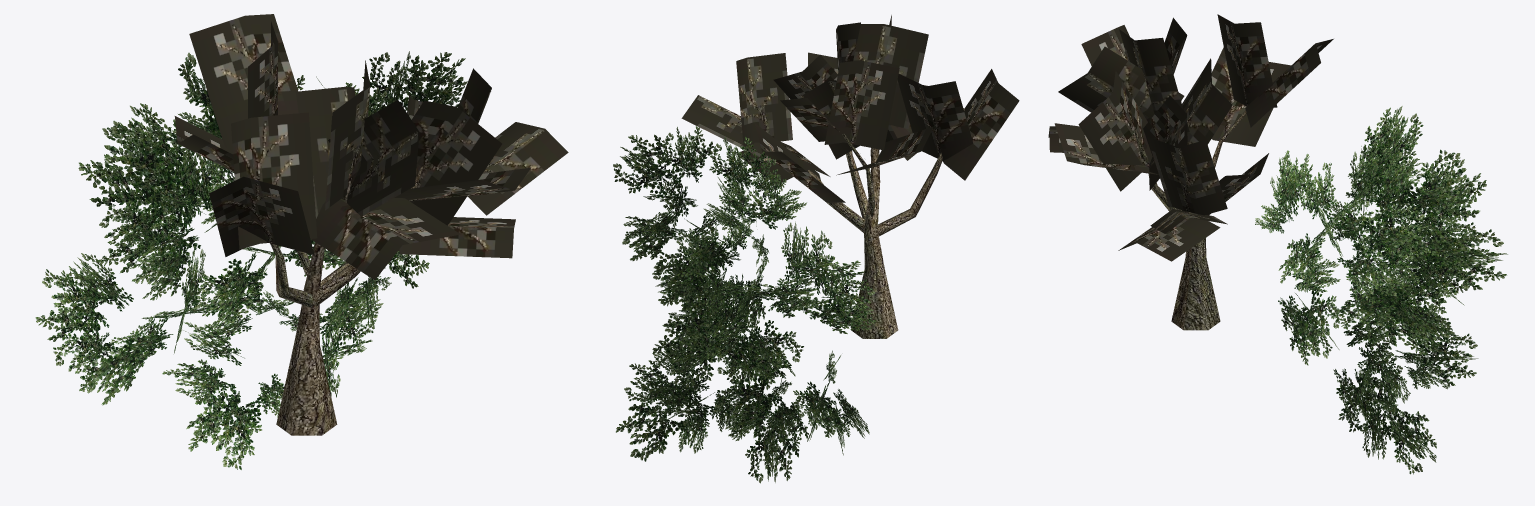
File: oak-c.glb
3 views of the same model, side by side, from view 1: azimuth 30°, elevation 25°; view 2: azimuth 150°, elevation 25°; view 3: azimuth 270°, elevation 25° (orthographic). The views are drawn at different scales.
Parts seen in each view (by area): view 1: tree_oak_new_c, tree_oak_new_top_c; view 2: tree_oak_new_top_c, tree_oak_new_c; view 3: tree_oak_new_top_c, tree_oak_new_c.
Boxes of the visible parts, box(x1,y1,x2,y2) form: tree_oak_new_c: box(174, 14, 568, 435); tree_oak_new_top_c: box(35, 51, 467, 469); tree_oak_new_top_c: box(613, 126, 876, 483); tree_oak_new_c: box(681, 15, 1019, 338); tree_oak_new_top_c: box(1255, 106, 1507, 474); tree_oak_new_c: box(1048, 14, 1333, 330).
Bounding box in the file's own units: 13.53 × 16.38 × 16.78.
2 materials, 2 textured.
